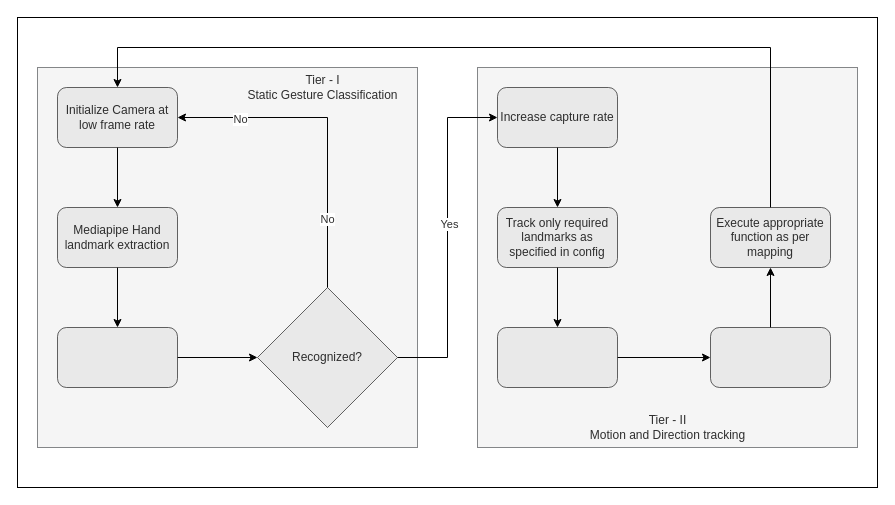
This 895x505 diagram has some shape labels left out. Here are the shapes that lost their labels. From the top down, the centre of each, then its label:
At point (117, 357): "SVM analysis for static gesture".
At point (557, 357): "Perform Temporal Velocity Vector Analysis".
At point (770, 357): "Determine Direction of motion".
